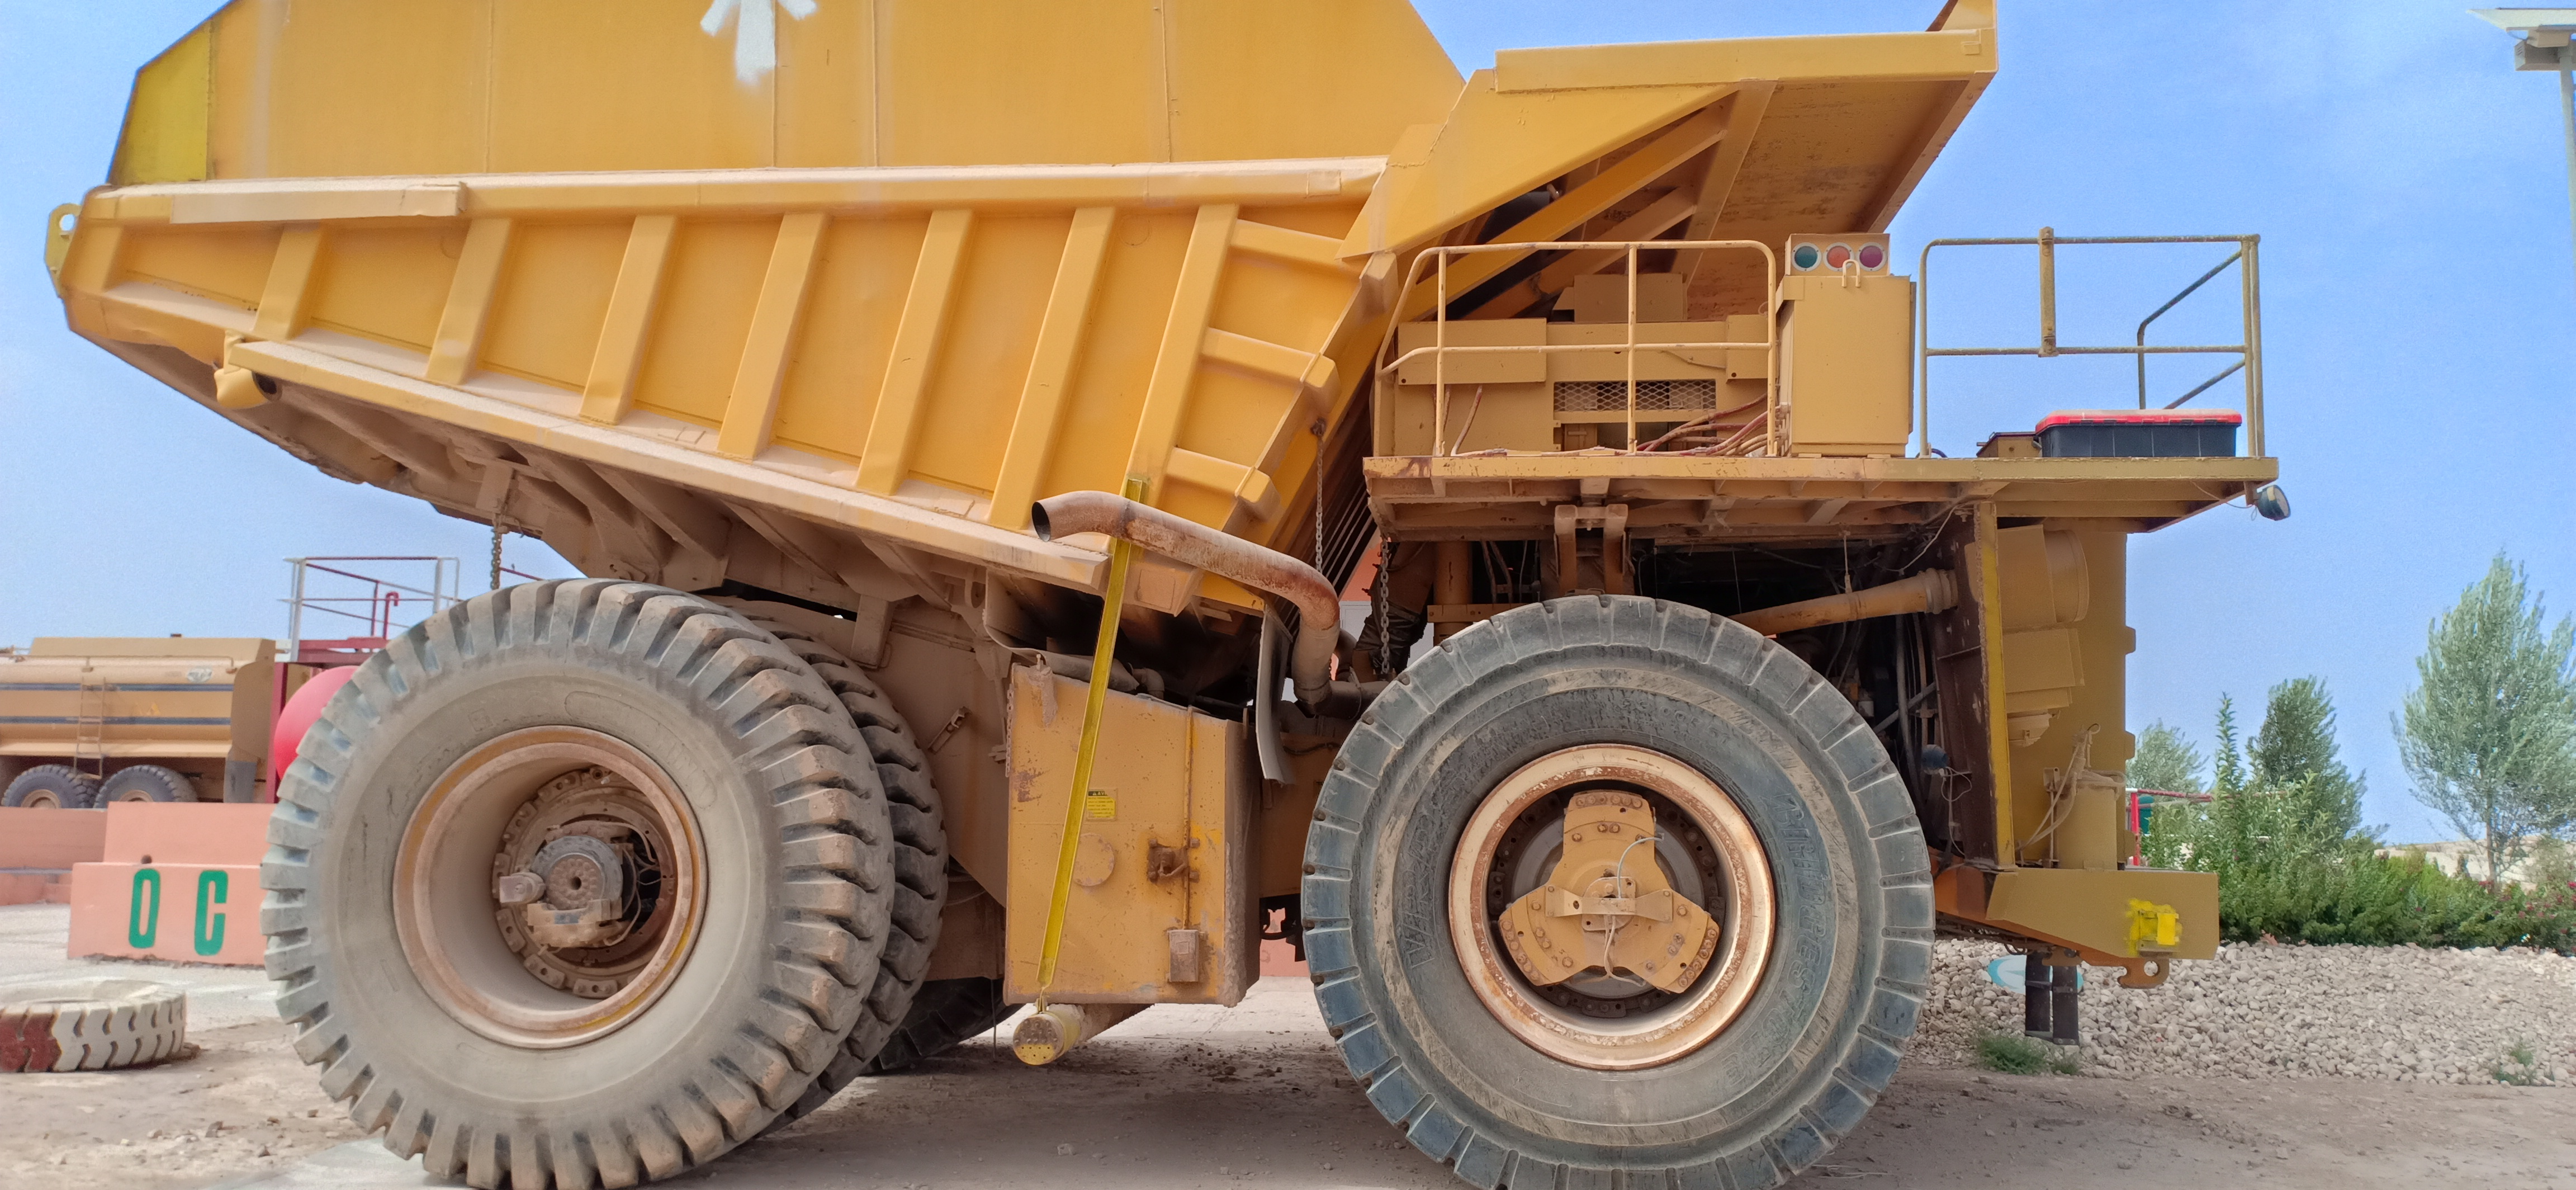camion: (53, 3, 2395, 1178)
